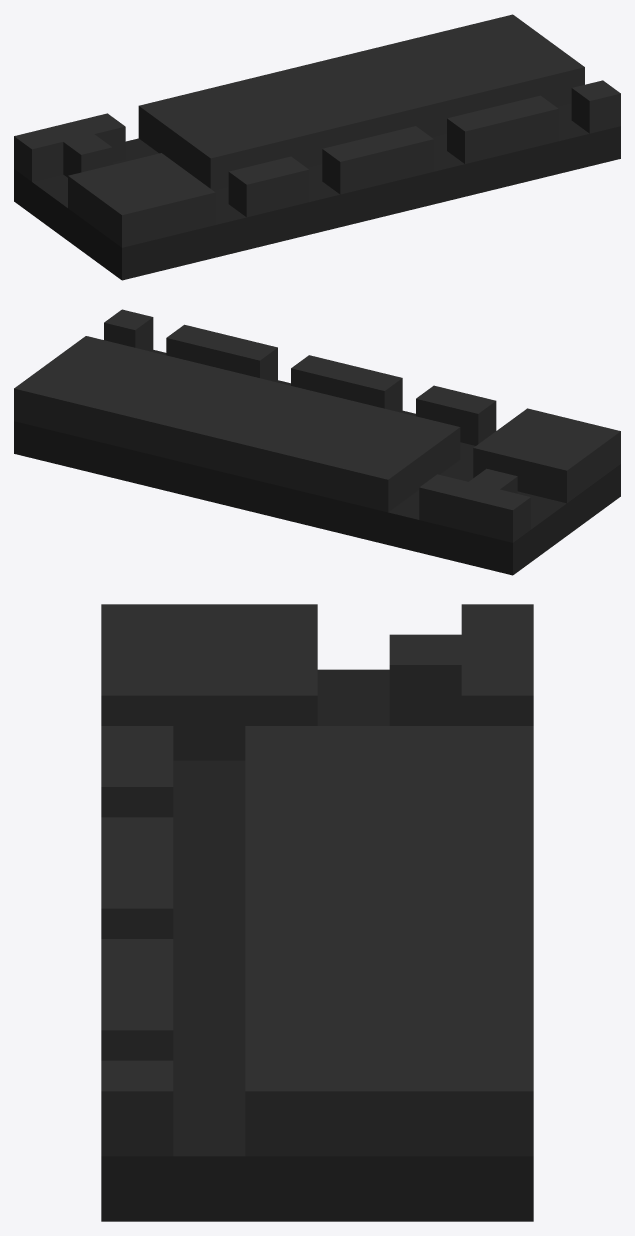
Rendered from computer_keyboard.glb.
The picture shows the model from 3 angles, top to bottom: view 1: azimuth 30°, elevation 25°; view 2: azimuth 150°, elevation 25°; view 3: azimuth 270°, elevation 25°; orthographic projection. The views are drawn at different scales.
Parts seen in each view (by area): view 1: Untitled; view 2: Untitled; view 3: Untitled.
Part boxes in pixels (x1,y1,x2,y2): Untitled: [14, 14, 620, 280]; Untitled: [14, 309, 620, 575]; Untitled: [101, 604, 533, 1221].
Size of the model in its own units: 0.48 by 0.06 by 0.18.
Materials: 1 (1 with a texture image).
